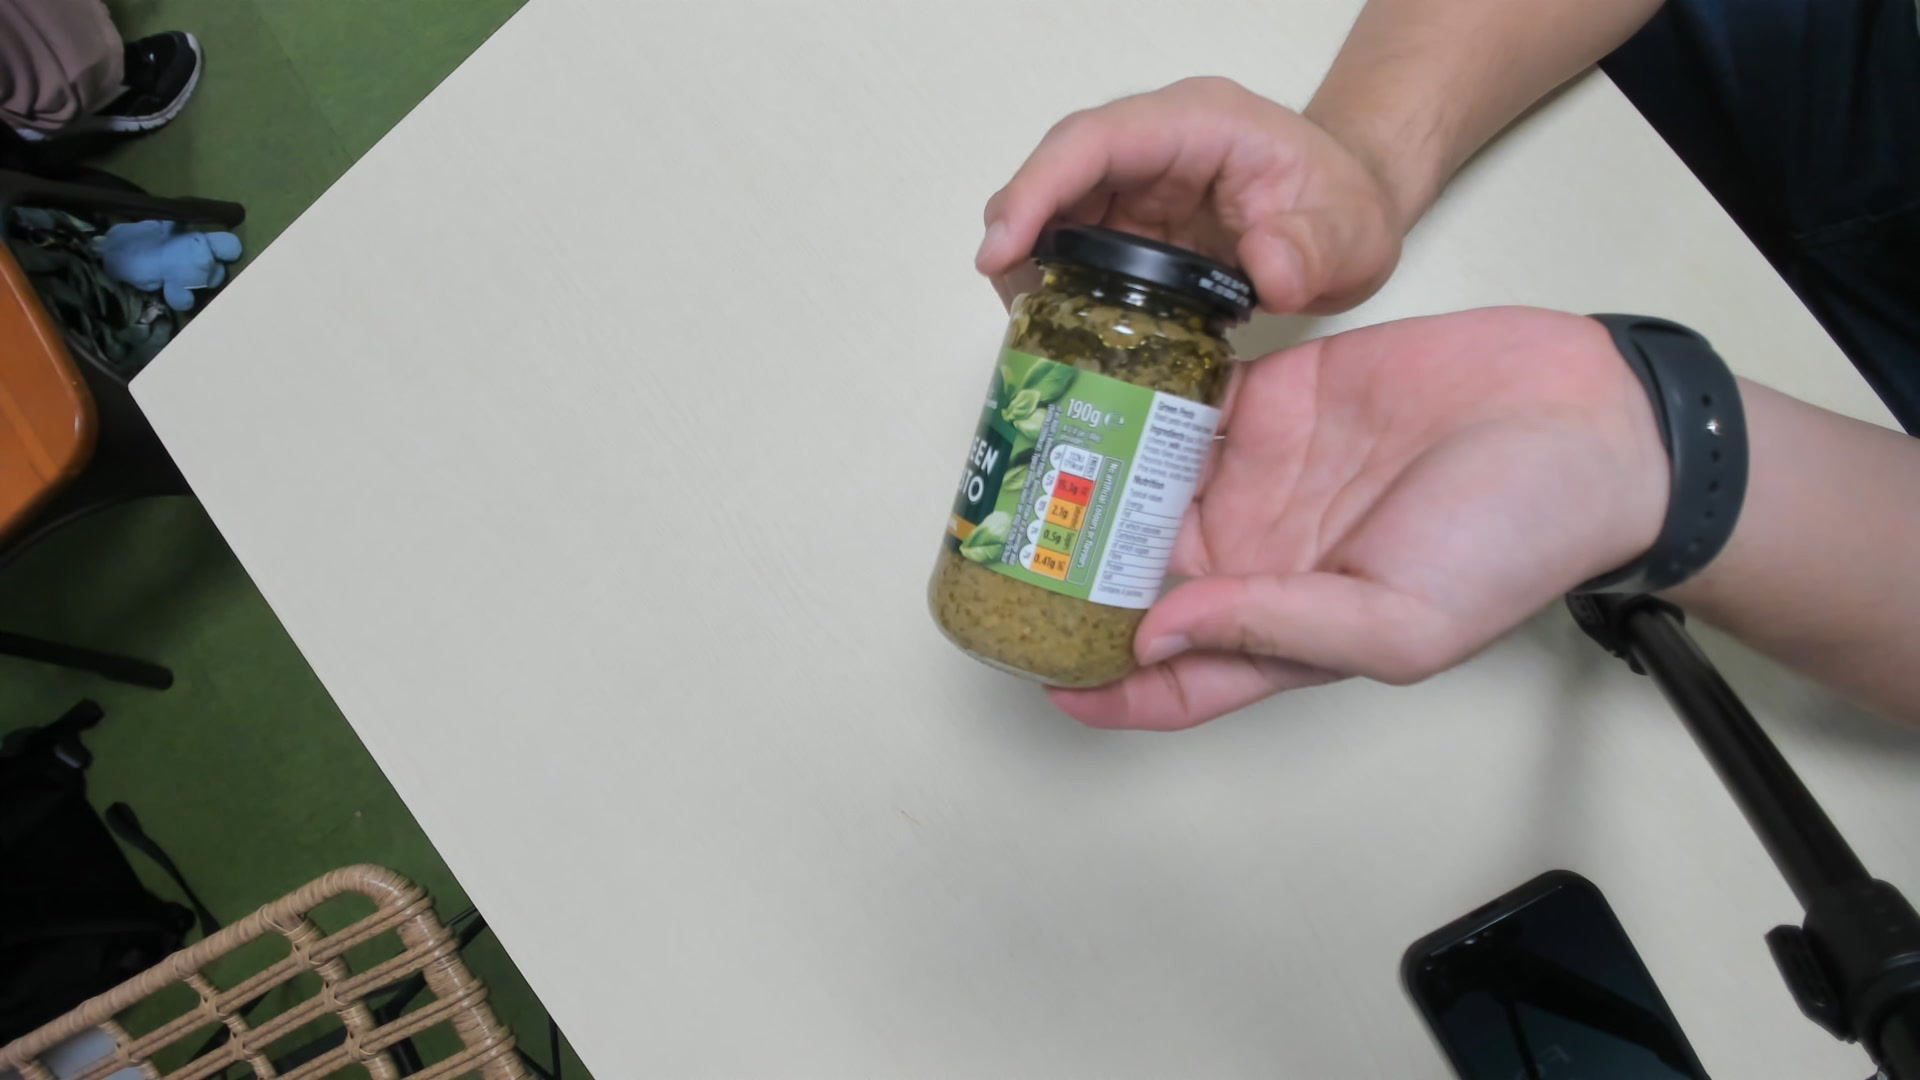OtherSauceDressing_100-199g_NonHalal_NonHealthy: (927, 231, 1259, 688)
